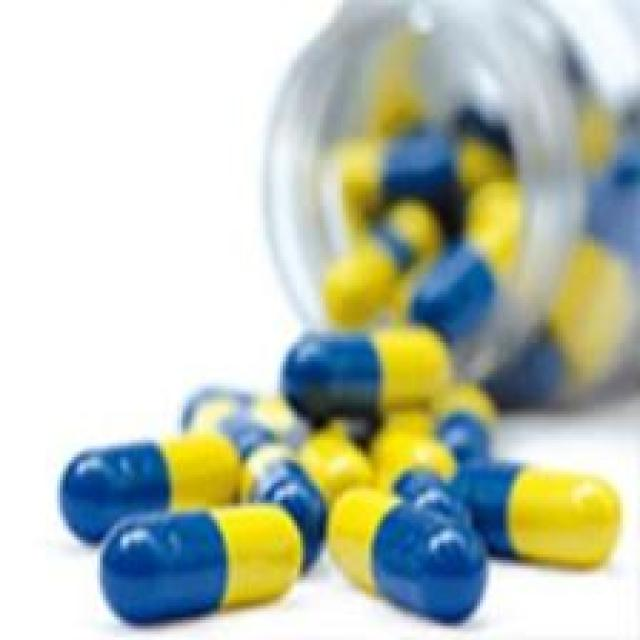Medicine: (47, 0, 640, 640)
